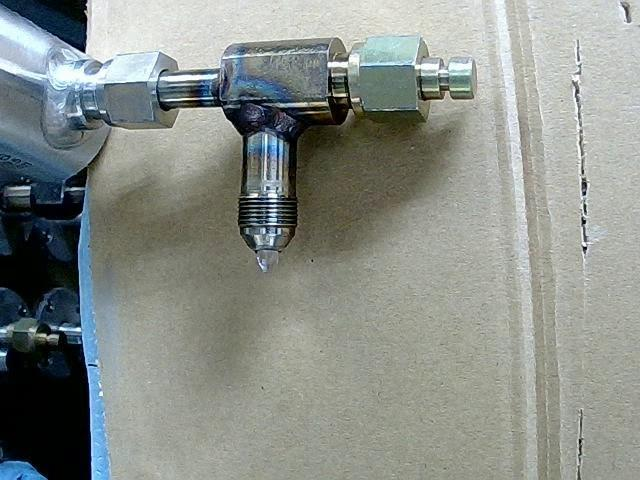water drop: (255, 250, 280, 277)
